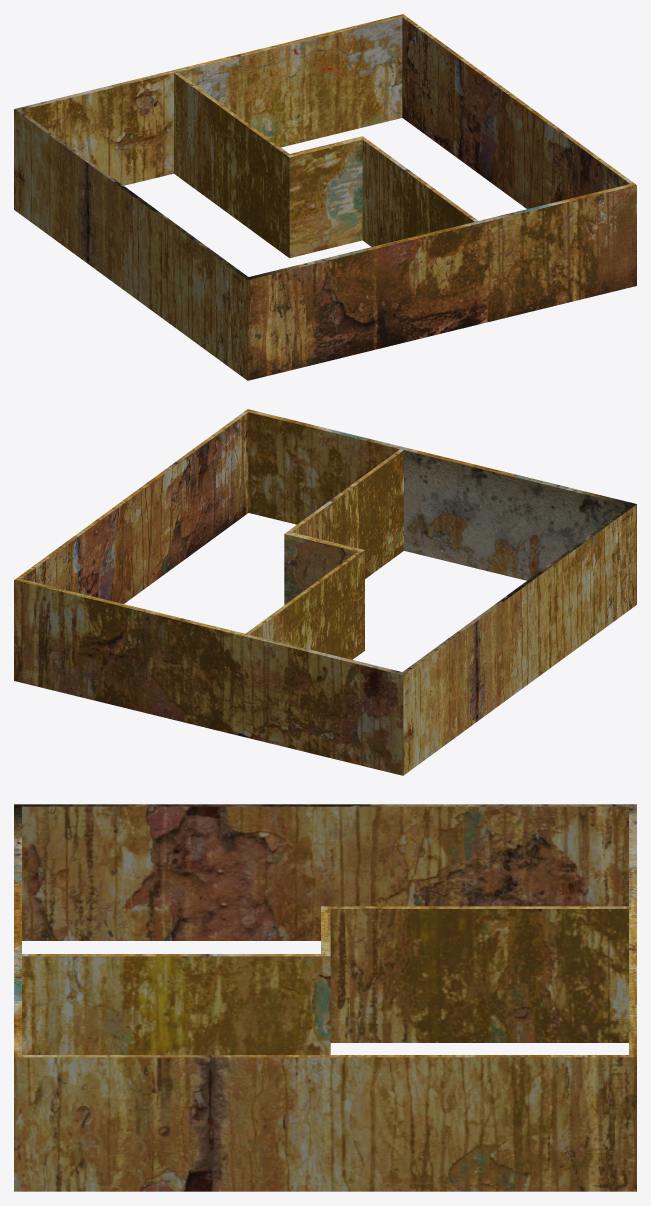
The model's file is ParedSotano.fbx.
The picture shows the model from 3 angles, top to bottom: view 1: azimuth 30°, elevation 25°; view 2: azimuth 150°, elevation 25°; view 3: azimuth 270°, elevation 25°; orthographic projection. The views are drawn at different scales.
Visible parts, largest first — view 1: Sotano-Paredes.001; view 2: Sotano-Paredes.001; view 3: Sotano-Paredes.001.
Part boxes in pixels (x1,y1,x2,y2): Sotano-Paredes.001: [14, 14, 636, 380]; Sotano-Paredes.001: [14, 409, 636, 775]; Sotano-Paredes.001: [14, 804, 636, 1191].
Bounding box in the file's own units: 3087 × 763 × 3211.
Materials: 1 (1 with a texture image).
